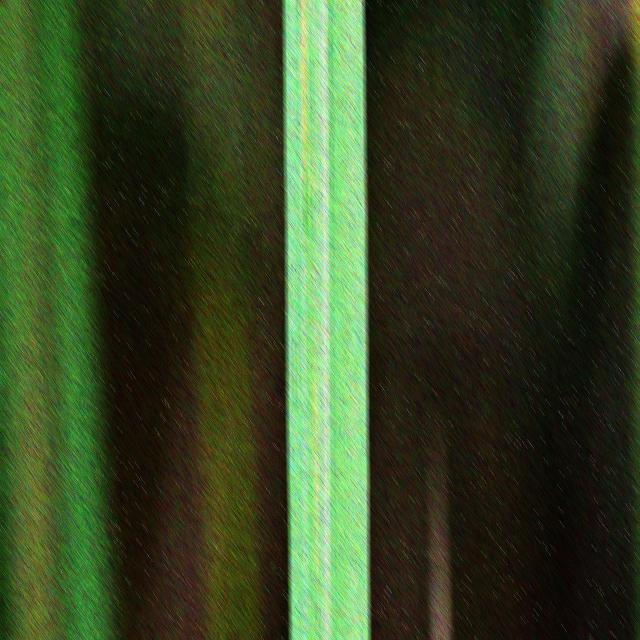BLS: (310, 52, 319, 636), (299, 0, 307, 234)
